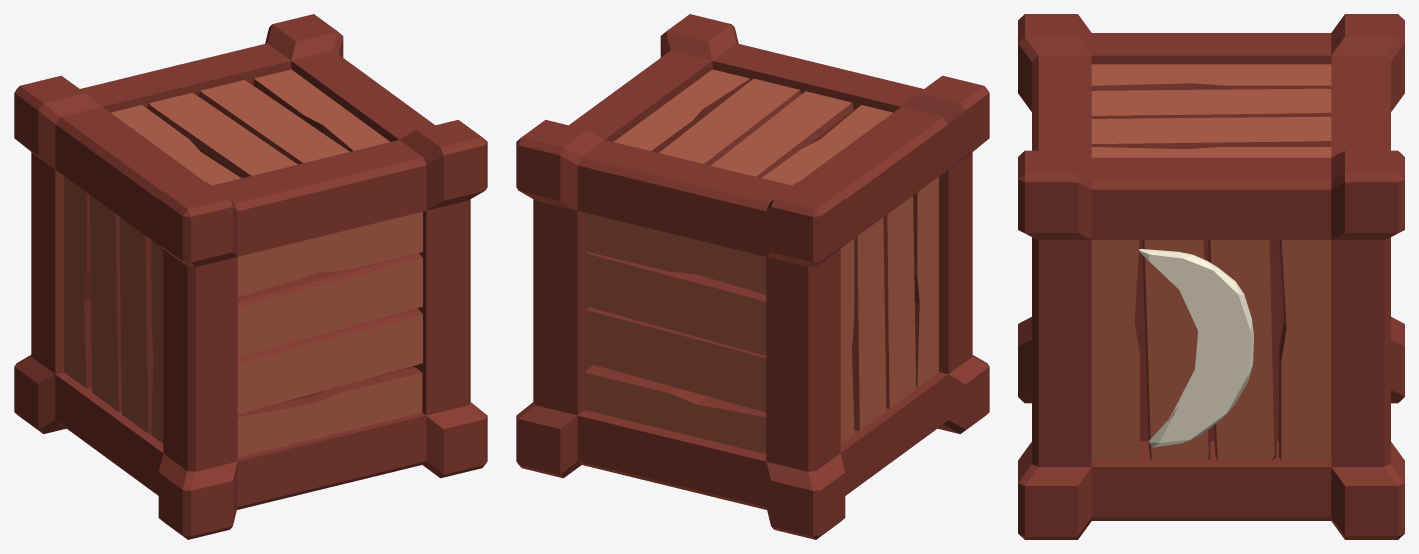
Rendered from MoonBox 2.fbx.
3 views of the same model, side by side, from view 1: azimuth 30°, elevation 25°; view 2: azimuth 150°, elevation 25°; view 3: azimuth 270°, elevation 25° (orthographic). The views are drawn at different scales.
Parts seen in each view (by area): view 1: Plane.044; view 2: Plane.044; view 3: Plane.044.
Part boxes in pixels (<box>): Plane.044: <box>14,14,487,539</box>; Plane.044: <box>516,14,989,539</box>; Plane.044: <box>1018,14,1404,539</box>.
Bounding box in the file's own units: 156 × 162 × 154.
